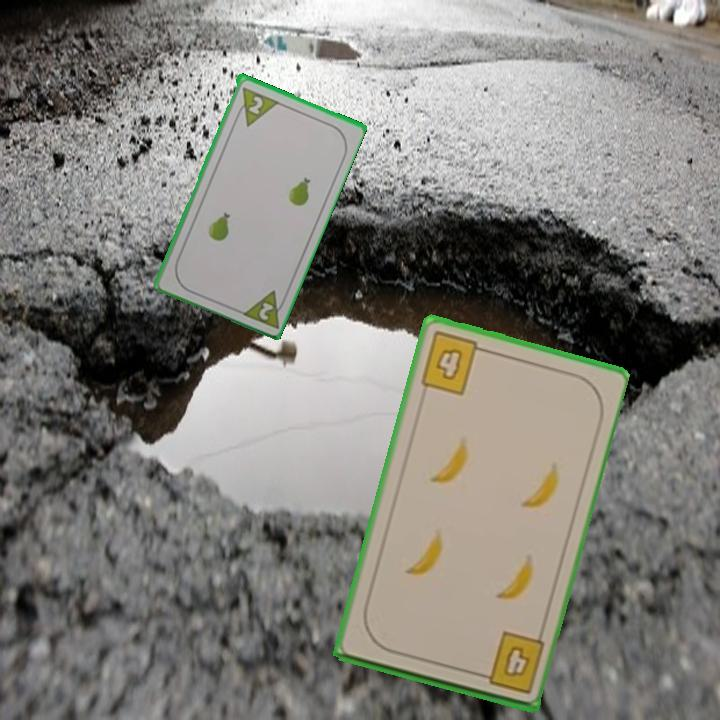2p: (237, 286, 290, 331), (230, 83, 280, 129)
4b: (416, 328, 491, 398), (472, 628, 548, 697)
